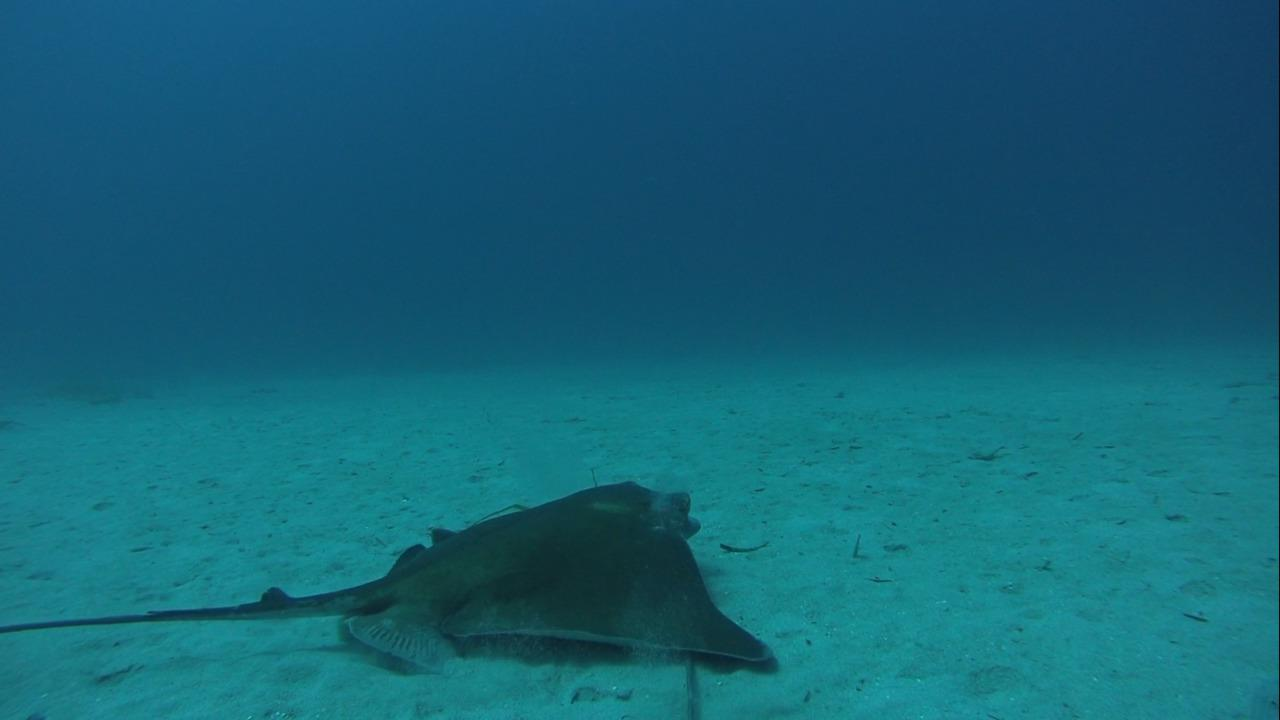myliobatis: (9, 473, 784, 685)
